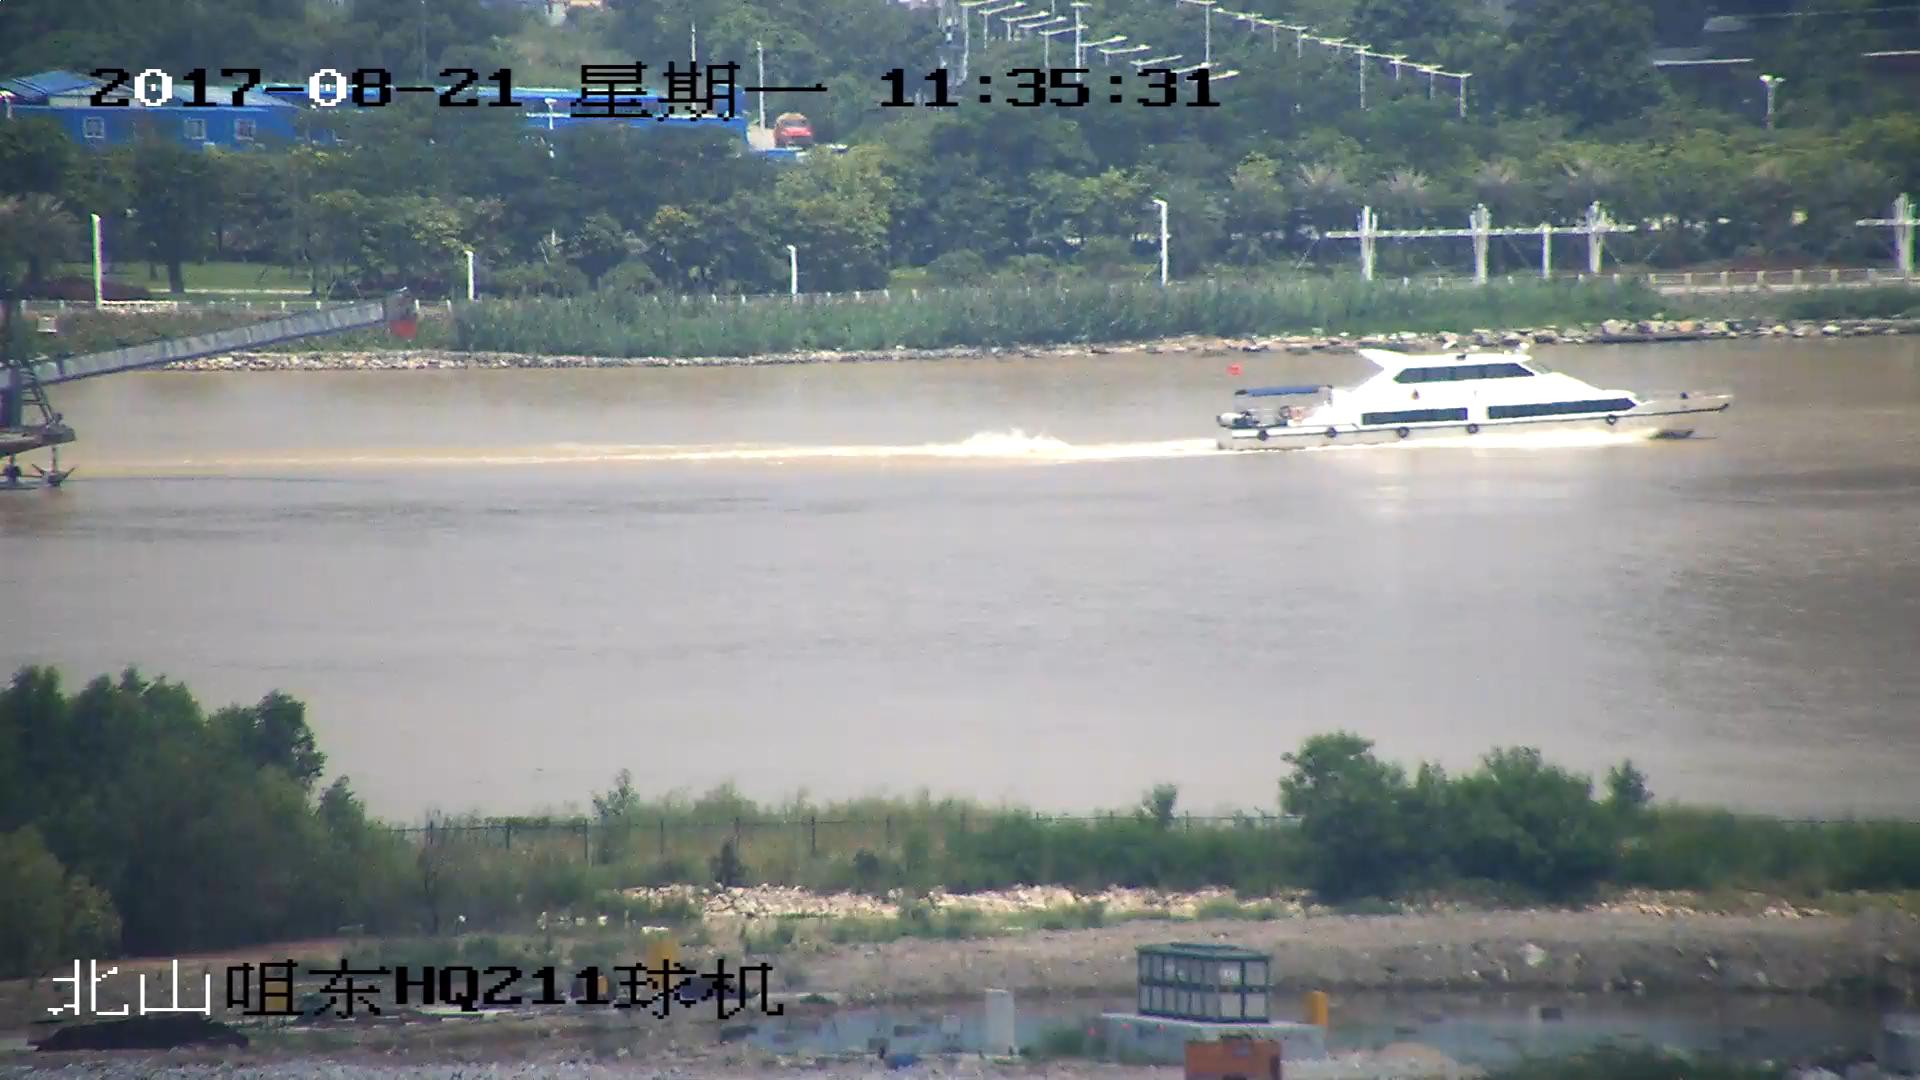bulk cargo carrier: (1, 295, 400, 492)
passenger ship: (1210, 343, 1736, 459)
